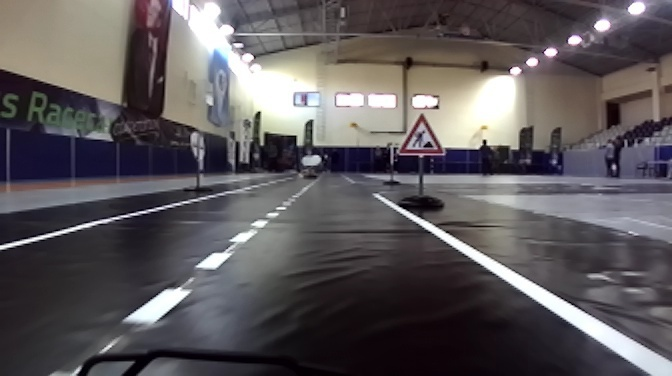yol_yapimi: (394, 117, 445, 160)
